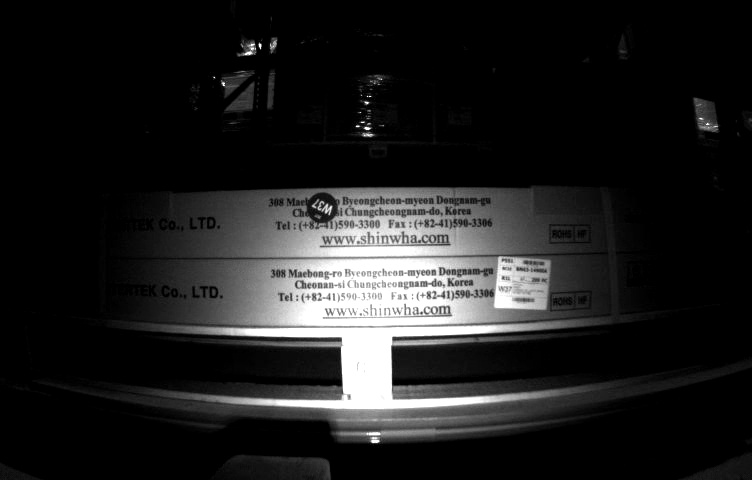True Barcode: (492, 256, 551, 314)
